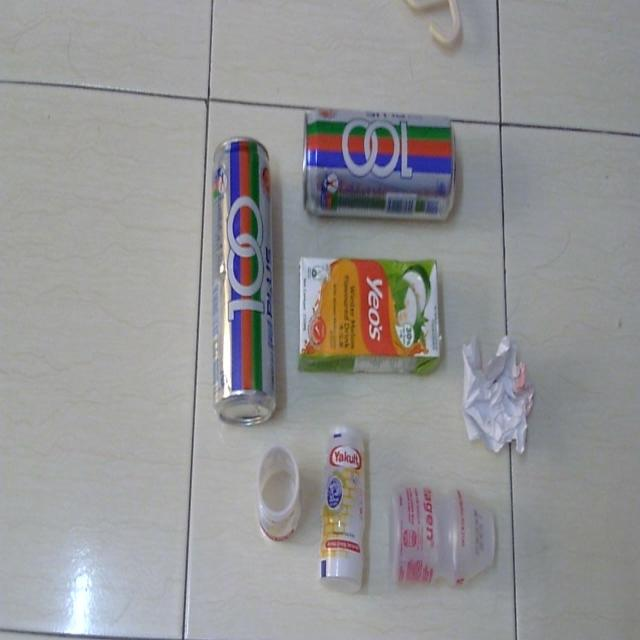metal_laydown_0rotation: (298, 102, 467, 228)
metal_laydown_90rotation: (207, 134, 282, 429)
paperrotation: (454, 328, 549, 460)
plastic_laydown_0rotation: (294, 252, 444, 380), (383, 476, 506, 606)
plastic_laydown_90rotation: (318, 419, 371, 602)
plastic_standrotation: (251, 441, 308, 553)
